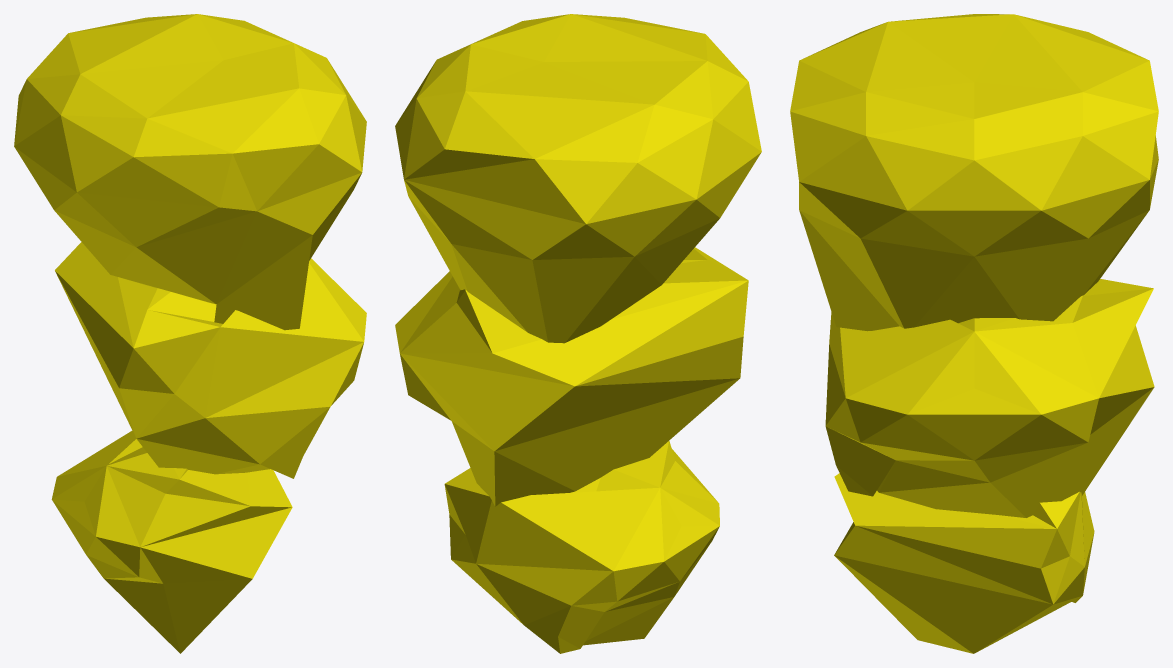
The model's file is level2rockfall.fbx.
The picture shows the model from 3 angles, left to right: view 1: azimuth 30°, elevation 25°; view 2: azimuth 150°, elevation 25°; view 3: azimuth 270°, elevation 25°; orthographic projection. The views are drawn at different scales.
Visible parts, largest first — view 1: Icosphere.002; view 2: Icosphere.002; view 3: Icosphere.002.
Part boxes in pixels (box(x1,y1,x2,y2)): Icosphere.002: box(14, 14, 366, 653); Icosphere.002: box(395, 14, 761, 653); Icosphere.002: box(790, 14, 1158, 653).
Bounding box in the file's own units: 316 × 583 × 326.
